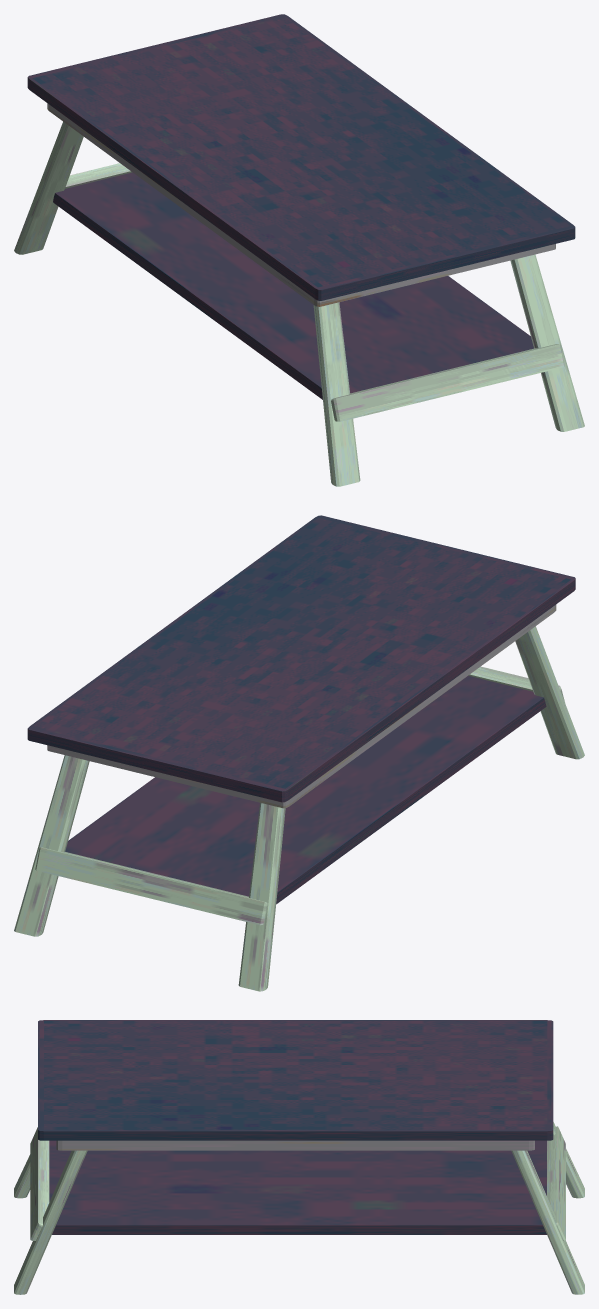
The model's file is CoffeeTable.fbx.
The picture shows the model from 3 angles, top to bottom: view 1: azimuth 30°, elevation 25°; view 2: azimuth 150°, elevation 25°; view 3: azimuth 270°, elevation 25°; orthographic projection. The views are drawn at different scales.
Visible parts, largest first — view 1: Cube.001; view 2: Cube.001; view 3: Cube.001.
Part boxes in pixels (left/top/right/bottom): Cube.001: left=14, top=14, right=584, bottom=486; Cube.001: left=14, top=515, right=584, bottom=991; Cube.001: left=14, top=1020, right=584, bottom=1294.
Bounding box in the file's own units: 213 × 148 × 462.
